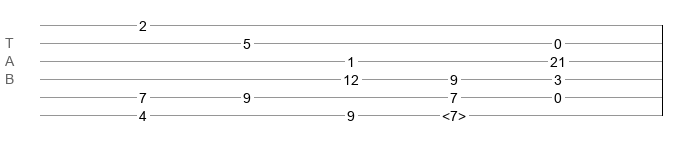0: (554, 90, 562, 100), (554, 36, 562, 46)
1: (347, 54, 355, 64)
12: (343, 72, 359, 82)
2: (139, 18, 147, 28)
21: (550, 54, 566, 64)
3: (554, 72, 562, 82)
4: (139, 108, 147, 118)
5: (243, 36, 251, 46)
7: (139, 90, 147, 100), (450, 90, 458, 100)
9: (243, 90, 251, 100), (347, 108, 355, 118), (450, 72, 458, 82)
harmonic: (442, 108, 466, 118)
